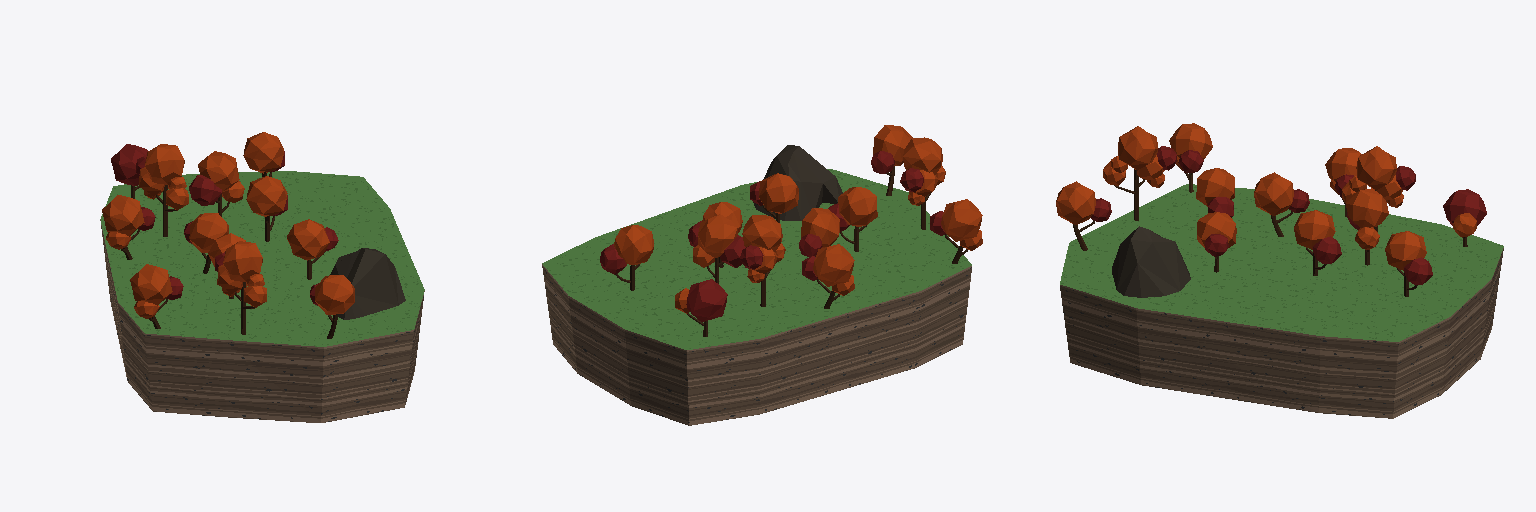
3 renders of one model, left to right at view 1: azimuth 30°, elevation 25°; view 2: azimuth 150°, elevation 25°; view 3: azimuth 270°, elevation 25°, orthographic.
Visible parts, largest first — view 1: pCube4396_Erba_01_TileMat_0, pCube4396_Bordo_Zolla_01_Mat_0, pSphere23_Roccia_01_Mat_0, pCylinder731_Albero01_Mat_0, pCylinder474_Albero01_Mat_0, pCylinder460_Albero01_Mat_0, pCylinder730_Albero01_Mat_0, pCylinder464_Albero01_Mat_0, pCylinder729_Albero01_Mat_0, pCylinder466_Albero01_Mat_0, pCylinder473_Albero01_Mat_0, pCylinder463_Albero01_Mat_0 (+3 smaller); view 2: pCube4396_Bordo_Zolla_01_Mat_0, pCube4396_Erba_01_TileMat_0, pSphere23_Roccia_01_Mat_0, pCylinder474_Albero01_Mat_0, pCylinder731_Albero01_Mat_0, pCylinder730_Albero01_Mat_0, pCylinder460_Albero01_Mat_0, pCylinder464_Albero01_Mat_0, pCylinder462_Albero02_Mat1_0, pCylinder463_Albero01_Mat_0, pCylinder475_Albero01_Mat_0, pCylinder466_Albero01_Mat_0 (+3 smaller); view 3: pCube4396_Erba_01_TileMat_0, pCube4396_Bordo_Zolla_01_Mat_0, pSphere23_Roccia_01_Mat_0, pCylinder731_Albero01_Mat_0, pCylinder474_Albero01_Mat_0, pCylinder464_Albero01_Mat_0, pCylinder729_Albero01_Mat_0, pCylinder461_Albero01_Mat_0, pCylinder466_Albero01_Mat_0, pCylinder473_Albero01_Mat_0, pCylinder475_Albero01_Mat_0, pCylinder730_Albero01_Mat_0 (+5 smaller).
Part boxes in pixels (x1,y1,x2,y2): pCube4396_Erba_01_TileMat_0: (100, 171, 424, 346); pCube4396_Bordo_Zolla_01_Mat_0: (100, 220, 424, 422); pSphere23_Roccia_01_Mat_0: (330, 248, 405, 319); pCylinder731_Albero01_Mat_0: (217, 241, 266, 307); pCylinder474_Albero01_Mat_0: (139, 144, 188, 210); pCylinder460_Albero01_Mat_0: (102, 195, 144, 249); pCylinder730_Albero01_Mat_0: (130, 264, 172, 318); pCylinder464_Albero01_Mat_0: (198, 151, 244, 202); pCylinder729_Albero01_Mat_0: (315, 275, 354, 314); pCylinder466_Albero01_Mat_0: (243, 132, 283, 173); pCylinder473_Albero01_Mat_0: (246, 176, 287, 216); pCylinder463_Albero01_Mat_0: (287, 219, 329, 260); pCube4396_Bordo_Zolla_01_Mat_0: (542, 264, 971, 425); pCube4396_Erba_01_TileMat_0: (542, 169, 971, 349); pSphere23_Roccia_01_Mat_0: (753, 145, 842, 220); pCylinder474_Albero01_Mat_0: (742, 215, 785, 282); pCylinder731_Albero01_Mat_0: (903, 137, 945, 205); pCylinder730_Albero01_Mat_0: (941, 199, 982, 250); pCylinder460_Albero01_Mat_0: (813, 244, 854, 295); pCylinder464_Albero01_Mat_0: (693, 214, 737, 267); pCylinder462_Albero02_Mat1_0: (686, 279, 727, 321); pCylinder463_Albero01_Mat_0: (759, 173, 798, 213); pCylinder475_Albero01_Mat_0: (838, 187, 877, 226); pCylinder466_Albero01_Mat_0: (614, 225, 653, 264); pCube4396_Erba_01_TileMat_0: (1060, 184, 1503, 341); pCube4396_Bordo_Zolla_01_Mat_0: (1060, 248, 1503, 418); pSphere23_Roccia_01_Mat_0: (1112, 226, 1190, 297); pCylinder731_Albero01_Mat_0: (1103, 126, 1164, 187); pCylinder474_Albero01_Mat_0: (1342, 146, 1403, 207); pCylinder464_Albero01_Mat_0: (1346, 188, 1388, 249); pCylinder729_Albero01_Mat_0: (1056, 181, 1095, 224); pCylinder461_Albero01_Mat_0: (1254, 172, 1293, 215); pCylinder466_Albero01_Mat_0: (1385, 231, 1426, 270); pCylinder473_Albero01_Mat_0: (1294, 210, 1335, 249); pCylinder475_Albero01_Mat_0: (1196, 168, 1234, 206); pCylinder730_Albero01_Mat_0: (1169, 123, 1212, 170).
Bounding box in the file's own units: 0.8556 × 0.4199 × 0.9969.
Materials: 6 (2 with a texture image).